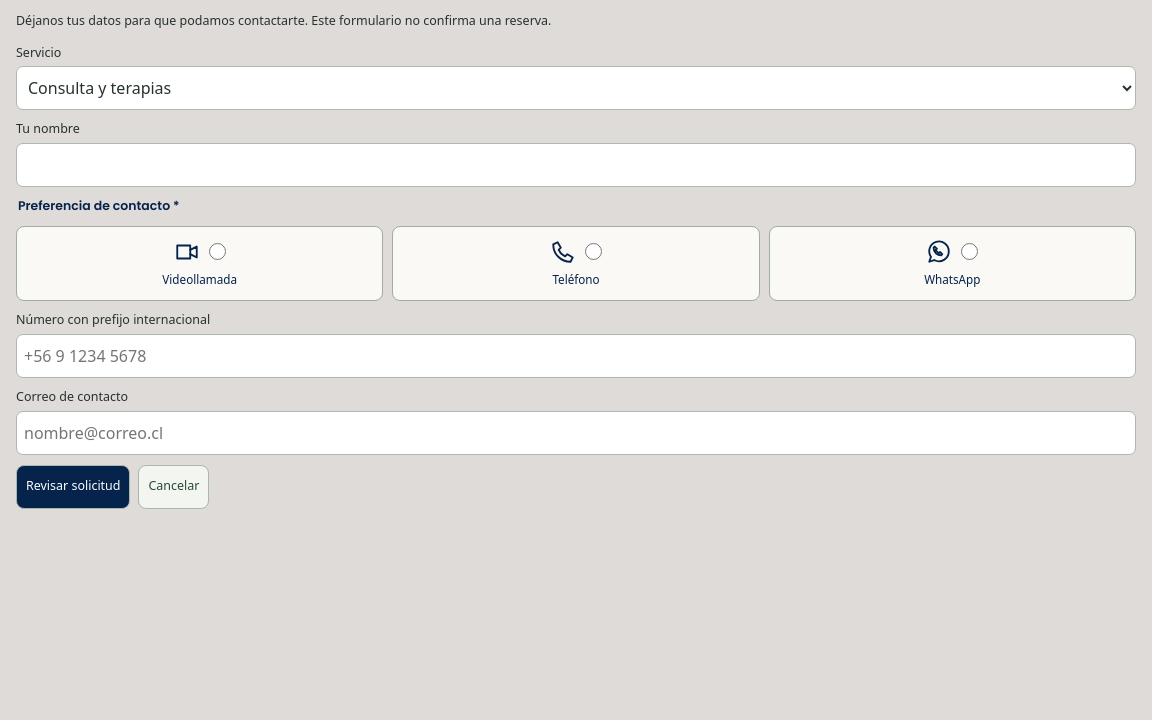
Test: ChatContactForm › blocks the review without an email when choosing Videollamada
Type "Ana" into the field labelled "Tu nombre". click: (576, 165)
box: [16,143,1136,187]
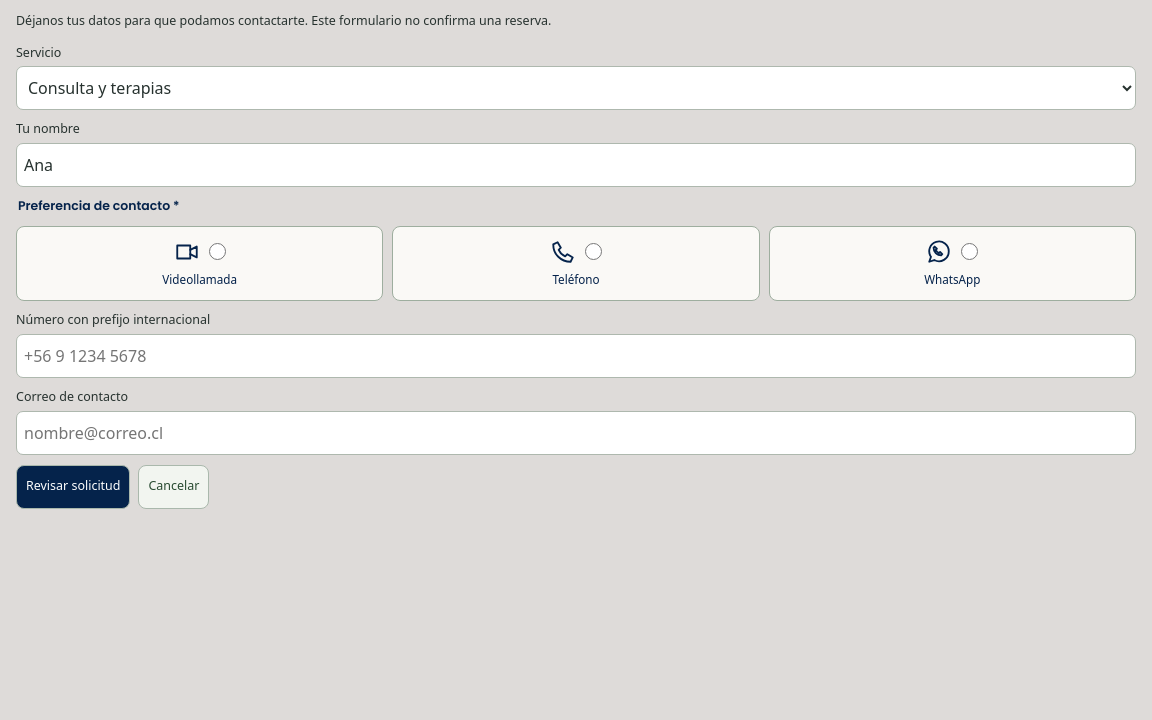
Type "+56912345678" into the field labelled "Número con prefijo internacional". click: (576, 356)
box: [16,334,1136,378]
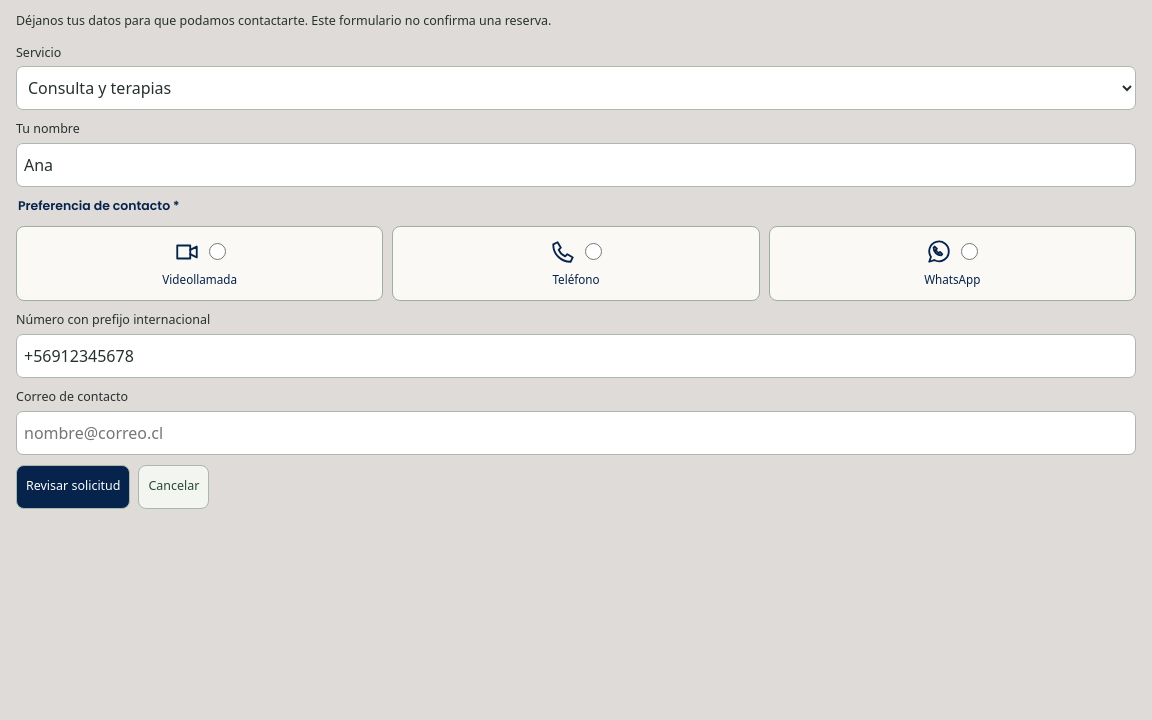
Click the radio button labelled "Videollamada". click: (217, 252)
box: [209,243,226,260]
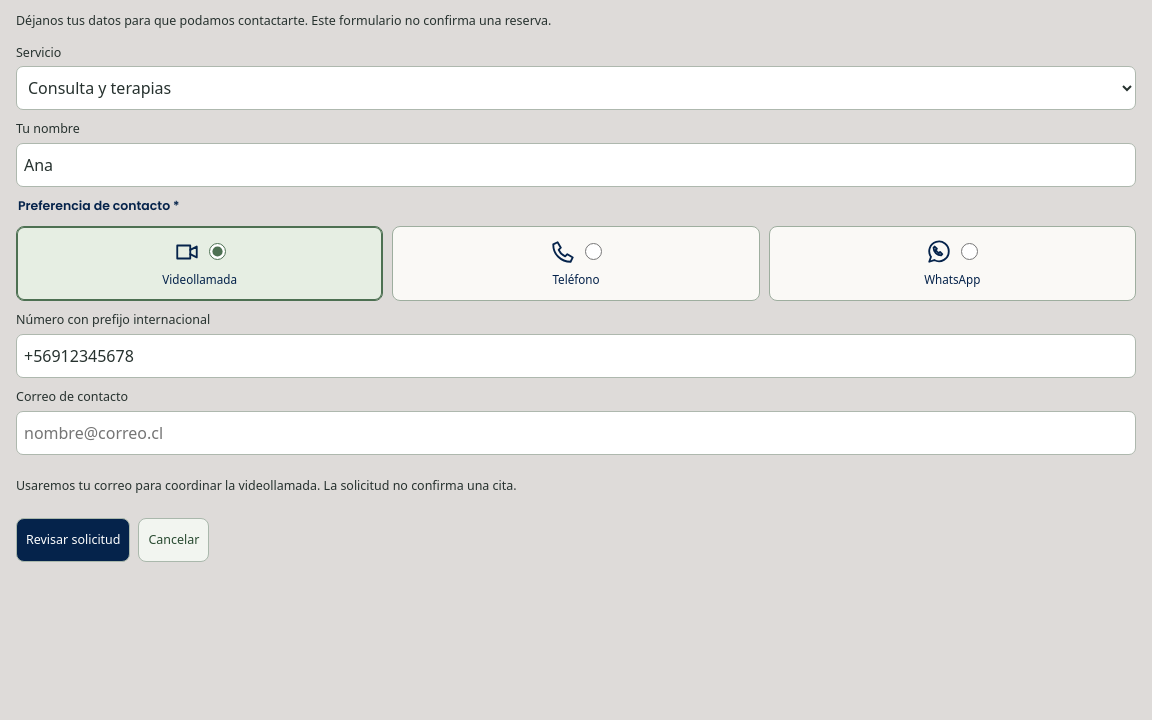
Click the button "Revisar solicitud". click: (73, 540)
box: [16,518,130,562]
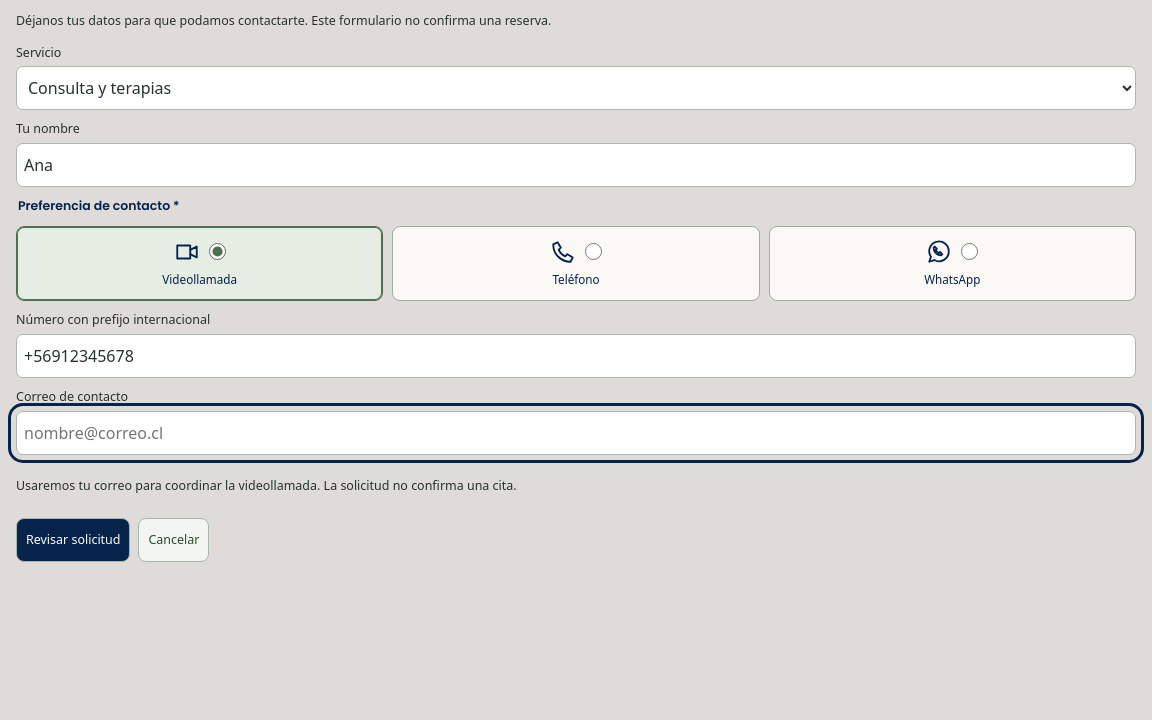
Expected: the text "revisa tu solicitud" is not shown
Type "ana@example.invalid" into the field labelled "Correo de contacto". click: (576, 433)
box: [16,411,1136,455]
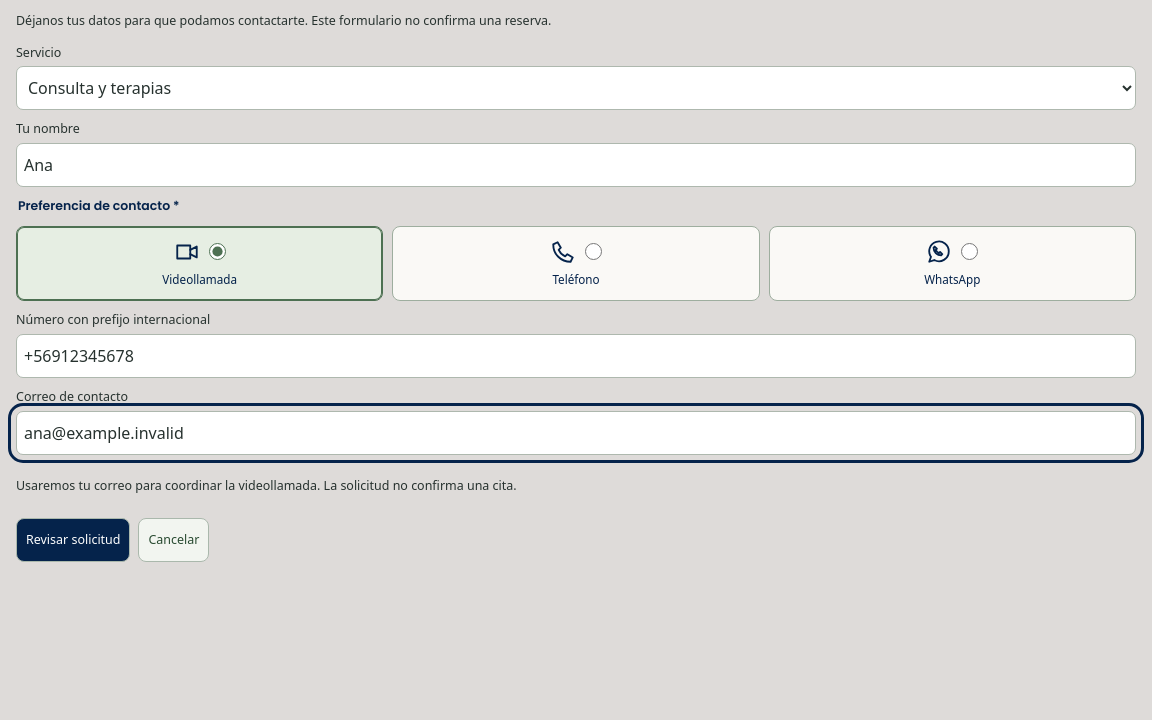
Click the button "Revisar solicitud". click: (73, 540)
box: [16,518,130,562]
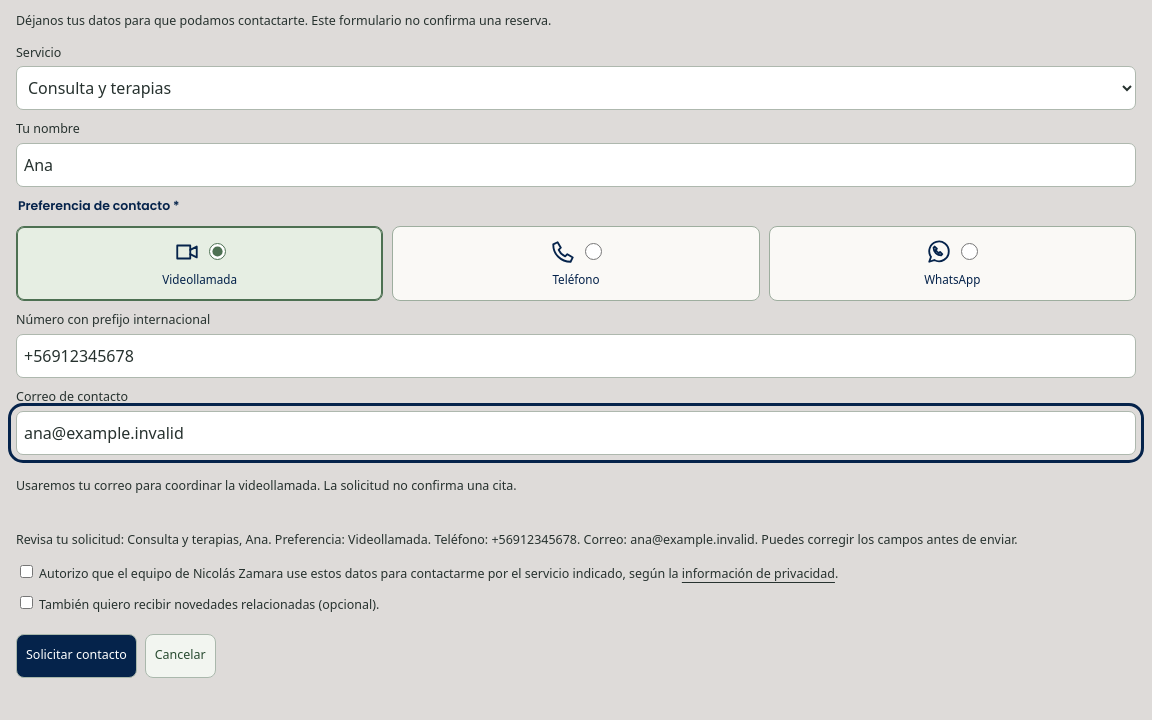
Now the text "Revisa tu solicitud" shows "Videollamada", box [348,531,428,548]
